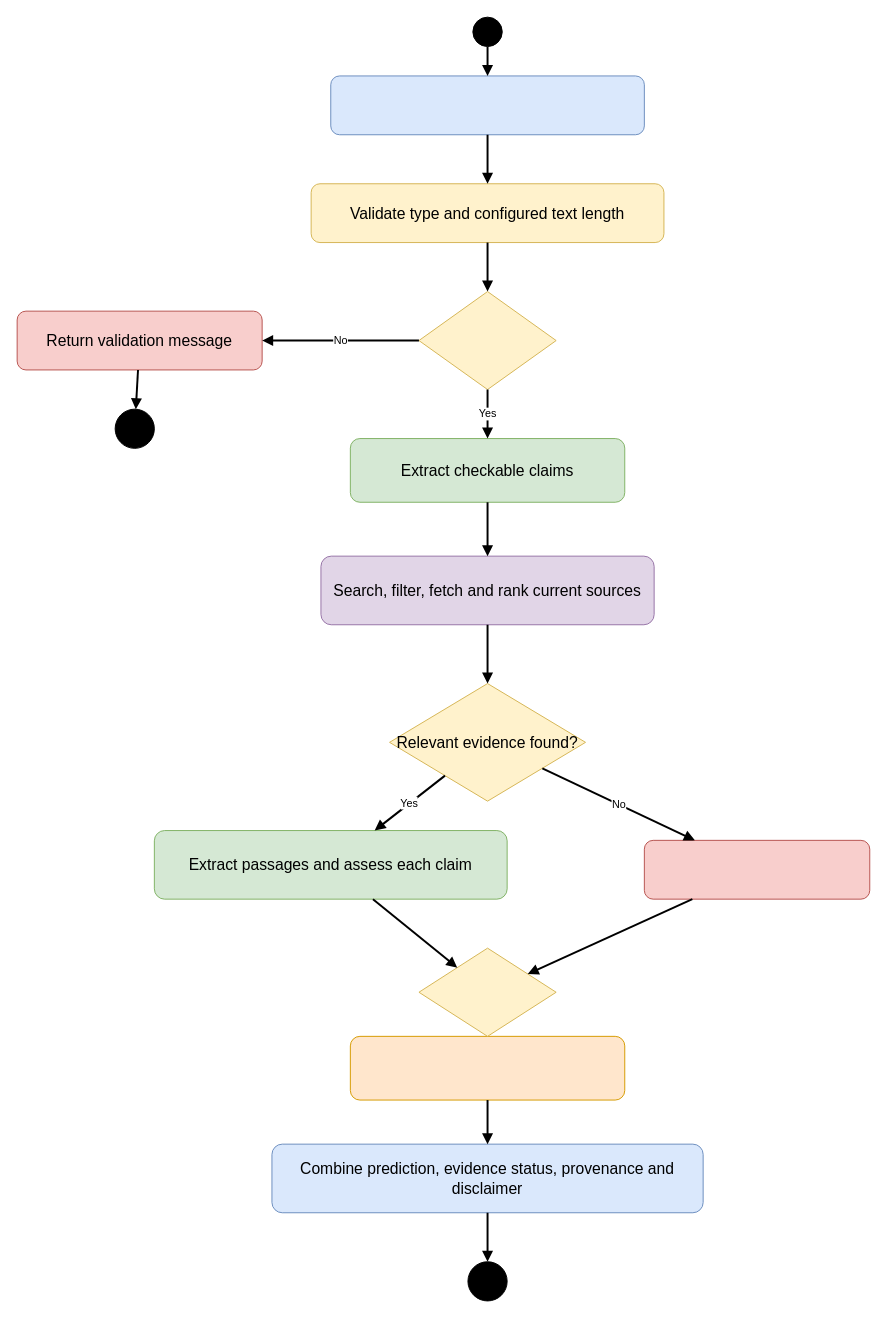
The diagram is 887 pixels wide and 1318 high, and some of its shapes have lost their labels. Each missing label, with the box of its shape:
Assign insufficient evidence: (643, 839, 870, 899)
Run selected text classifier: (349, 1035, 625, 1100)
User submits article or claim: (330, 75, 644, 135)
Valid?: (418, 291, 556, 390)
